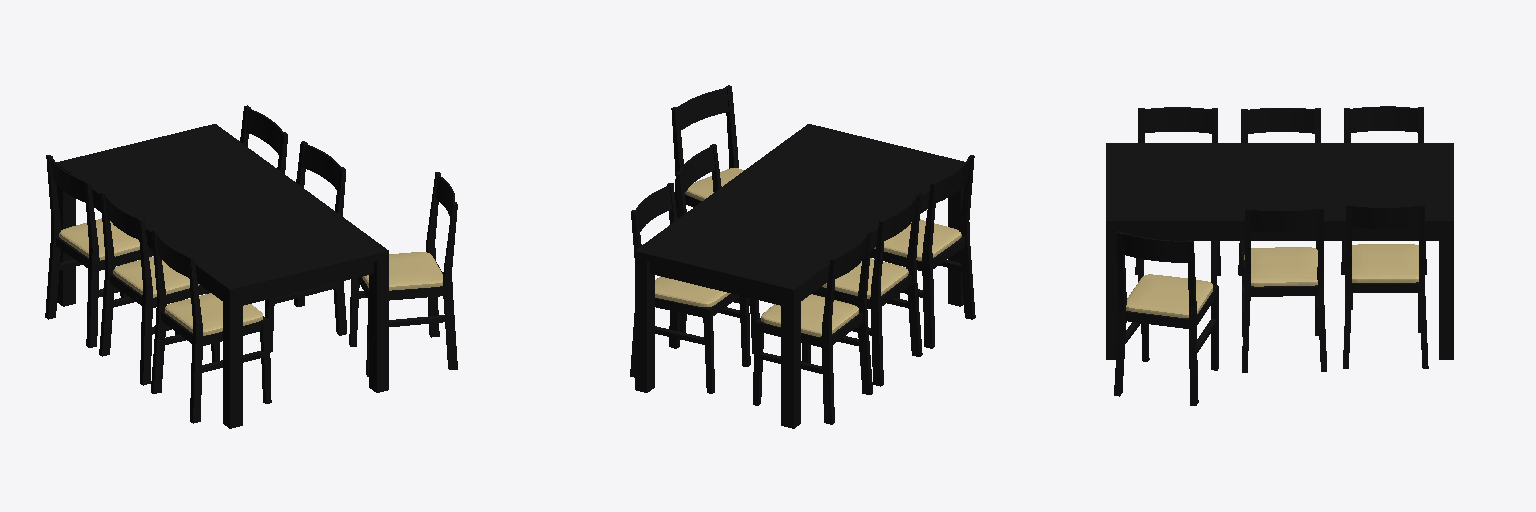
File: table_and_chairs2.obj
The picture shows the model from 3 angles: view 1: azimuth 30°, elevation 25°; view 2: azimuth 150°, elevation 25°; view 3: azimuth 270°, elevation 25°; orthographic projection.
Visible parts, largest first — view 1: table_Cube.008, chair.002_Cube.009, chair.004_Cube.012, chair.005_Cube.013, chair.003_Cube.024, chair_Cube.004, cus_chair.003_Cube.023, cus_chair.002_Cube.010, cus_chair.005_Cube.014, chair.001_Cube.007, cus_chair.004_Cube.011; view 2: table_Cube.008, chair.005_Cube.013, chair.004_Cube.012, chair.002_Cube.009, chair.001_Cube.007, chair.003_Cube.024, chair_Cube.004, cus_chair.005_Cube.014, cus_chair.001_Cube.006, cus_chair.002_Cube.010, cus_chair.004_Cube.011, cus_chair.003_Cube.023; view 3: table_Cube.008, chair.003_Cube.024, chair_Cube.004, chair.001_Cube.007, chair.002_Cube.009, cus_chair.001_Cube.006, cus_chair.003_Cube.023, cus_chair_Cube.005, chair.005_Cube.013, chair.004_Cube.012.
Part boxes in pixels (left/top/right/bottom): table_Cube.008: left=56, top=124, right=388, bottom=428; chair.002_Cube.009: left=151, top=229, right=271, bottom=423; chair.004_Cube.012: left=99, top=192, right=219, bottom=385; chair.005_Cube.013: left=45, top=155, right=153, bottom=347; chair.003_Cube.024: left=349, top=172, right=457, bottom=376; chair_Cube.004: left=265, top=141, right=346, bottom=352; cus_chair.003_Cube.023: left=362, top=252, right=442, bottom=290; cus_chair.002_Cube.010: left=165, top=293, right=262, bottom=335; cus_chair.005_Cube.014: left=59, top=218, right=139, bottom=260; chair.001_Cube.007: left=207, top=105, right=287, bottom=293; cus_chair.004_Cube.011: left=113, top=256, right=199, bottom=297; table_Cube.008: left=635, top=124, right=964, bottom=428; chair.005_Cube.013: left=753, top=230, right=872, bottom=424; chair.004_Cube.012: left=802, top=192, right=922, bottom=386; chair.002_Cube.009: left=870, top=155, right=975, bottom=348; chair.001_Cube.007: left=630, top=183, right=750, bottom=393; chair.003_Cube.024: left=671, top=85, right=738, bottom=218; chair_Cube.004: left=675, top=144, right=759, bottom=353; cus_chair.005_Cube.014: left=761, top=294, right=858, bottom=336; cus_chair.001_Cube.006: left=655, top=276, right=730, bottom=306; cus_chair.002_Cube.010: left=874, top=219, right=961, bottom=260; cus_chair.004_Cube.011: left=822, top=258, right=908, bottom=298; cus_chair.003_Cube.023: left=685, top=168, right=743, bottom=200; table_Cube.008: left=1106, top=143, right=1453, bottom=359; chair.003_Cube.024: left=1114, top=231, right=1218, bottom=405; chair_Cube.004: left=1242, top=207, right=1326, bottom=372; chair.001_Cube.007: left=1343, top=204, right=1428, bottom=368; chair.002_Cube.009: left=1135, top=107, right=1220, bottom=284; cus_chair.001_Cube.006: left=1352, top=244, right=1418, bottom=282; cus_chair.003_Cube.023: left=1126, top=274, right=1212, bottom=317; cus_chair_Cube.005: left=1244, top=247, right=1317, bottom=286; chair.005_Cube.013: left=1341, top=106, right=1426, bottom=309; chair.004_Cube.012: left=1238, top=108, right=1320, bottom=275.
Size of the model in its own units: 1.58 by 0.8811 by 1.7.